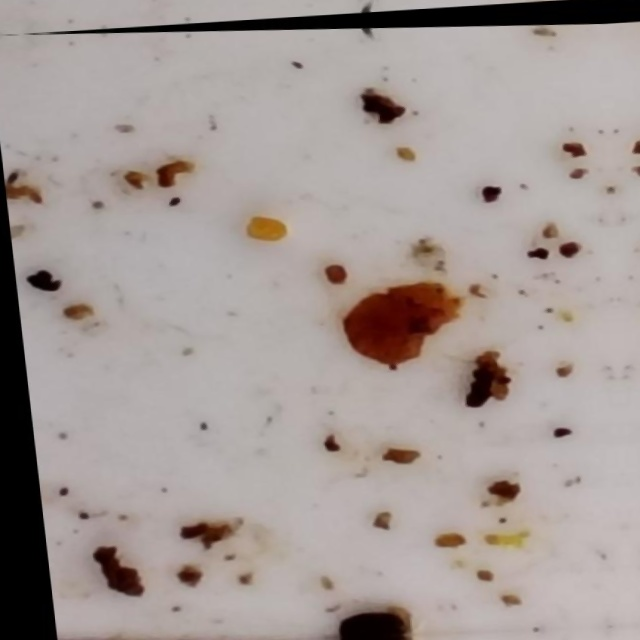varroa: (321, 608, 396, 637)
